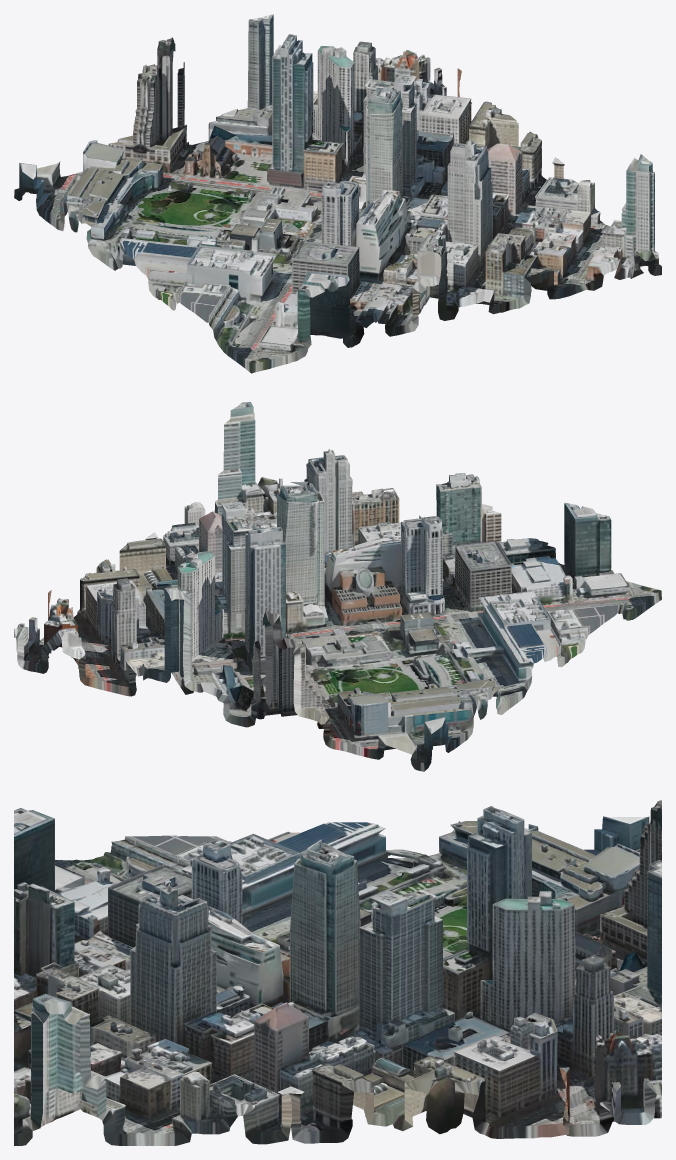
File: z16-10485-25328-h0-yup-uvflip-v3-world.glb
The picture shows the model from 3 angles, top to bottom: view 1: azimuth 30°, elevation 25°; view 2: azimuth 150°, elevation 25°; view 3: azimuth 270°, elevation 25°; orthographic projection. The views are drawn at different scales.
Size of the model in its own units: 483 by 169 by 485.
1 material, 1 textured.
